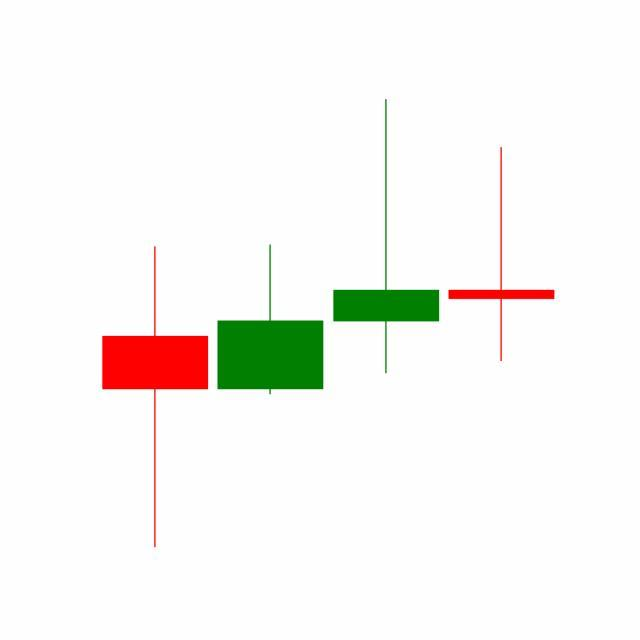Spinning Top: (444, 144, 560, 364)
